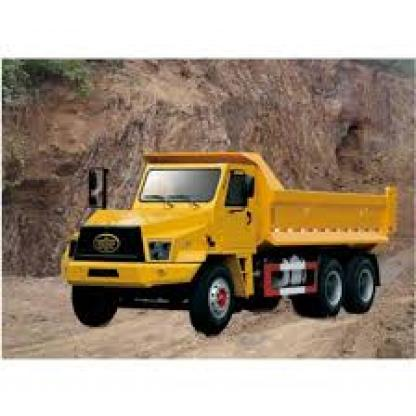dump_truck: (56, 141, 392, 333)
